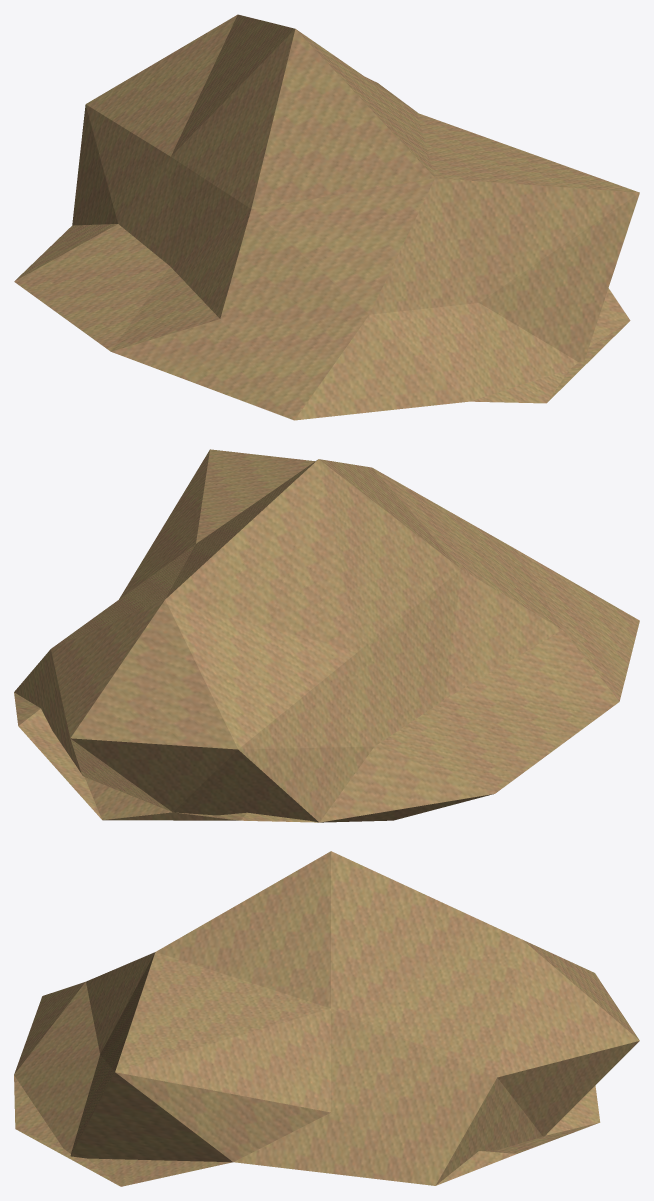
Rendered from rock_small_tan_b.dae.
3 views of the same model, one above another, from view 1: azimuth 30°, elevation 25°; view 2: azimuth 150°, elevation 25°; view 3: azimuth 270°, elevation 25° (orthographic). The views are drawn at different scales.
Visible parts, largest first — view 1: rock_mesh; view 2: rock_mesh; view 3: rock_mesh.
Part boxes in pixels (<box>): rock_mesh: <box>14,14,639,420</box>; rock_mesh: <box>14,449,639,822</box>; rock_mesh: <box>14,851,639,1186</box>.
Bounding box in the file's own units: 0.4363 × 0.5346 × 0.2293.
1 material, 1 textured.
